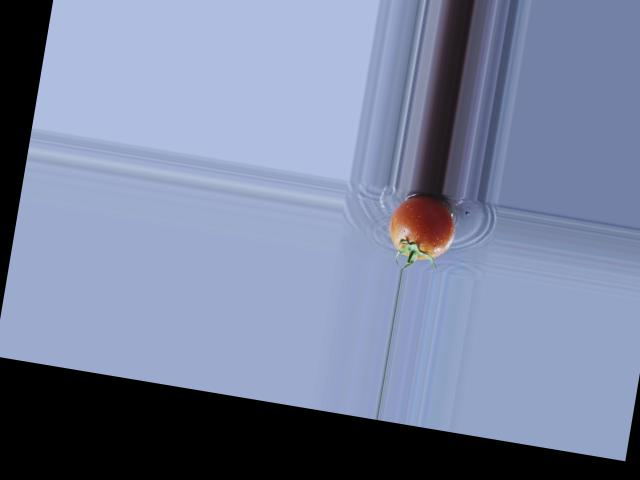tomato: (385, 190, 459, 263)
